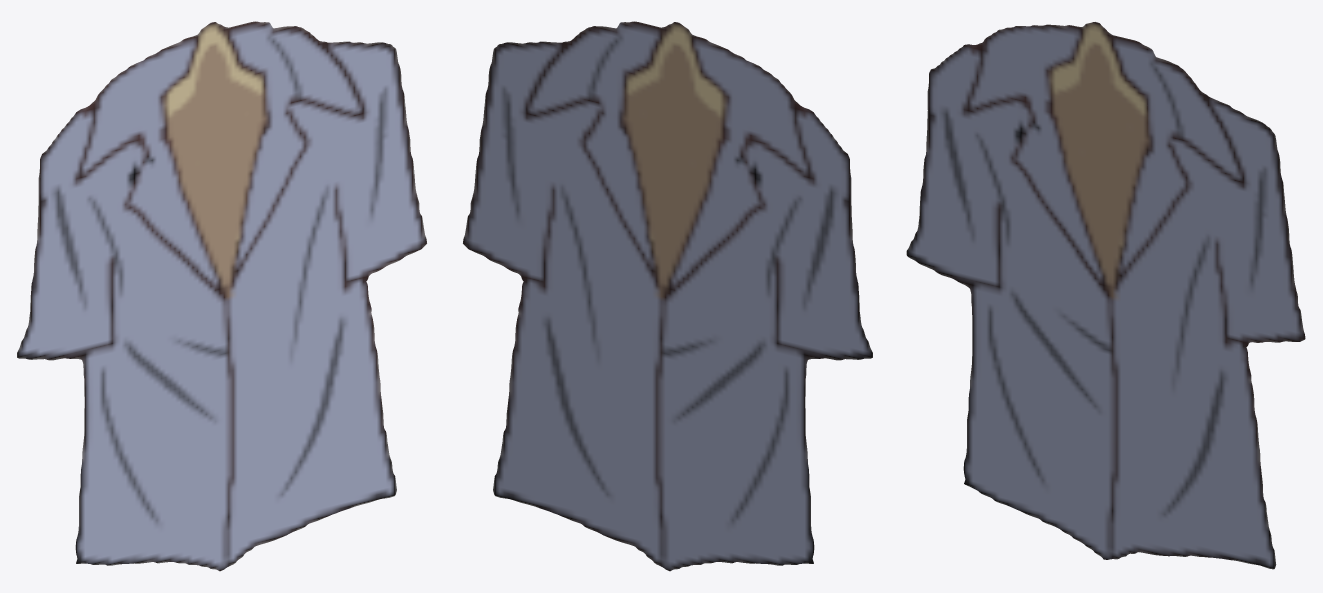
Rendered from giftgoods013.fbx.
3 renders of one model, left to right at view 1: azimuth 30°, elevation 25°; view 2: azimuth 150°, elevation 25°; view 3: azimuth 330°, elevation 25°, orthographic. The views are drawn at different scales.
Visible parts, largest first — view 1: giftgoods013; view 2: giftgoods013; view 3: giftgoods013.
Part boxes in pixels (bbox=[...]): giftgoods013: bbox=[17, 21, 426, 571]; giftgoods013: bbox=[463, 21, 872, 571]; giftgoods013: bbox=[906, 22, 1305, 569].
Bounding box in the file's own units: 0.6976 × 0.9049 × 0.
